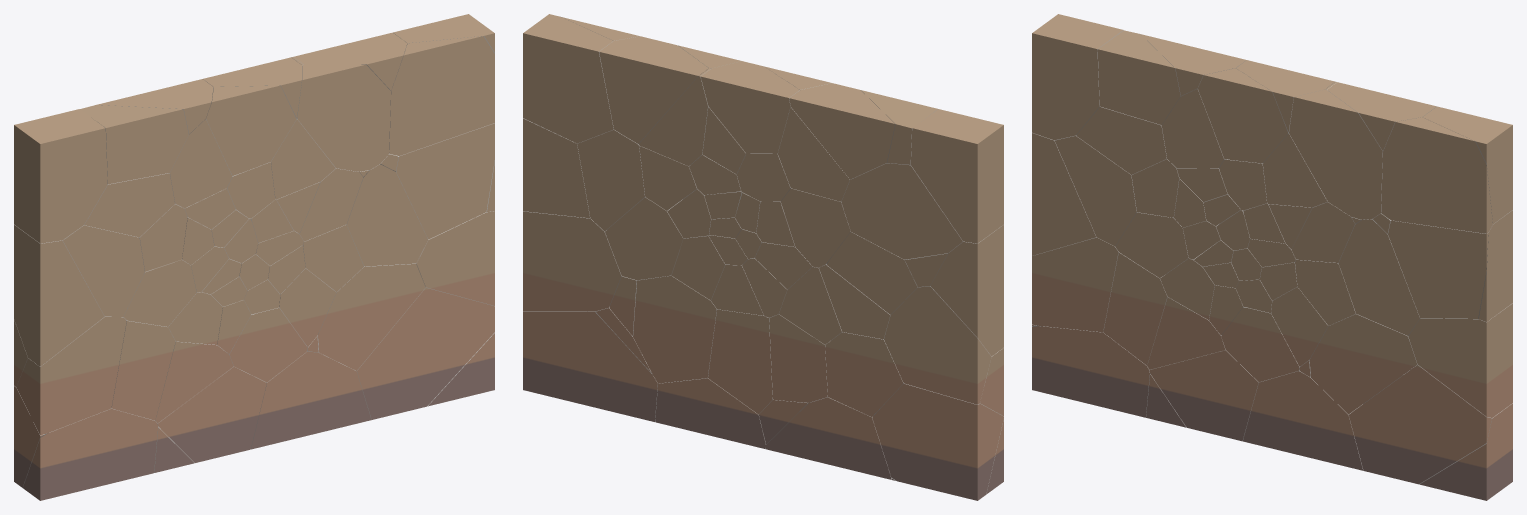
The model's file is Wall01_frac.fbx.
The picture shows the model from 3 angles, left to right: view 1: azimuth 30°, elevation 25°; view 2: azimuth 150°, elevation 25°; view 3: azimuth 330°, elevation 25°; orthographic projection.
Visible parts, largest first — view 1: Wall01_cell.032, Wall01_cell.040, Wall01_cell.028, Wall01_cell.035, Wall01_cell.026, Wall01_cell.039, Wall01_cell.036, Wall01_cell.027, Wall01_cell.031, Wall01_cell.033, Wall01_cell.034, Wall01_cell.024 (+39 smaller); view 2: Wall01_cell.066, Wall01_cell.070, Wall01_cell.040, Wall01_cell.073, Wall01_cell.071, Wall01_cell.060, Wall01_cell.058, Wall01_cell.069, Wall01_cell.074, Wall01_cell.059, Wall01_cell.078, Wall01_cell.067 (+37 smaller); view 3: Wall01_cell.032, Wall01_cell.028, Wall01_cell.026, Wall01_cell.035, Wall01_cell.071, Wall01_cell.040, Wall01_cell.027, Wall01_cell.031, Wall01_cell.033, Wall01_cell.036, Wall01_cell.034, Wall01_cell.024 (+38 smaller).
Boxes of the visible parts, x1=… form: Wall01_cell.032: x1=356, y1=287, x2=494, y2=419; Wall01_cell.040: x1=14, y1=109, x2=107, y2=243; Wall01_cell.028: x1=389, y1=36, x2=494, y2=155; Wall01_cell.035: x1=23, y1=408, x2=157, y2=500; Wall01_cell.026: x1=297, y1=64, x2=390, y2=171; Wall01_cell.039: x1=14, y1=224, x2=104, y2=366; Wall01_cell.036: x1=16, y1=316, x2=126, y2=435; Wall01_cell.027: x1=396, y1=123, x2=494, y2=239; Wall01_cell.031: x1=251, y1=351, x2=371, y2=449; Wall01_cell.033: x1=318, y1=263, x2=425, y2=370; Wall01_cell.034: x1=157, y1=366, x2=266, y2=462; Wall01_cell.024: x1=205, y1=85, x2=296, y2=175; Wall01_cell.066: x1=872, y1=383, x2=1003, y2=500; Wall01_cell.070: x1=523, y1=311, x2=657, y2=421; Wall01_cell.040: x1=911, y1=109, x2=1003, y2=243; Wall01_cell.073: x1=523, y1=14, x2=613, y2=143; Wall01_cell.071: x1=523, y1=211, x2=621, y2=311; Wall01_cell.060: x1=884, y1=286, x2=991, y2=404; Wall01_cell.058: x1=841, y1=163, x2=962, y2=259; Wall01_cell.069: x1=633, y1=275, x2=716, y2=383; Wall01_cell.074: x1=599, y1=36, x2=708, y2=143; Wall01_cell.059: x1=789, y1=83, x2=895, y2=179; Wall01_cell.078: x1=700, y1=61, x2=799, y2=153; Wall01_cell.067: x1=766, y1=397, x2=891, y2=479; Wall01_cell.032: x1=1349, y1=364, x2=1491, y2=484; Wall01_cell.028: x1=1381, y1=117, x2=1492, y2=233; Wall01_cell.026: x1=1289, y1=89, x2=1382, y2=219; Wall01_cell.035: x1=1032, y1=326, x2=1149, y2=417; Wall01_cell.071: x1=1408, y1=303, x2=1512, y2=417; Wall01_cell.040: x1=1032, y1=14, x2=1123, y2=140; Wall01_cell.027: x1=1388, y1=220, x2=1488, y2=318; Wall01_cell.031: x1=1243, y1=371, x2=1363, y2=470; Wall01_cell.033: x1=1309, y1=314, x2=1417, y2=414; Wall01_cell.036: x1=1032, y1=237, x2=1118, y2=332; Wall01_cell.034: x1=1149, y1=350, x2=1258, y2=441; Wall01_cell.024: x1=1198, y1=68, x2=1288, y2=163.
Size of the model in its own units: 400 by 300 by 40.
